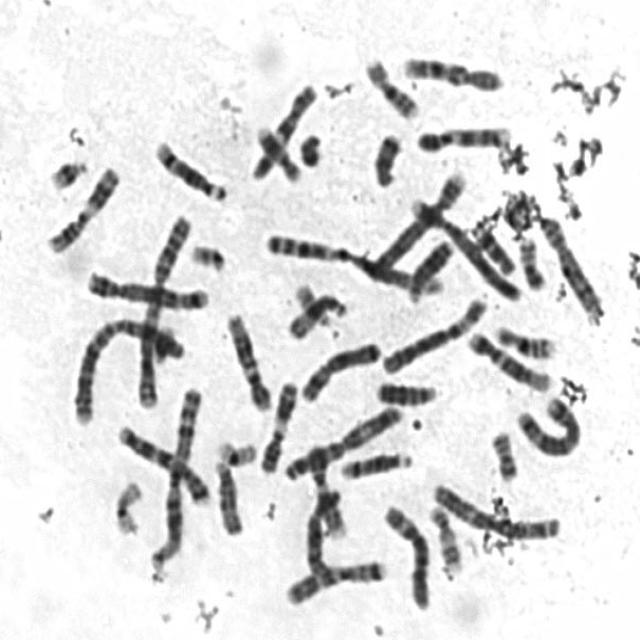A1: (257, 224, 452, 298), (143, 378, 205, 574)
A2: (65, 310, 187, 426), (131, 204, 195, 412)
A3: (278, 396, 407, 482), (424, 473, 564, 542)
B4: (402, 186, 524, 304), (363, 161, 470, 283)
B5: (80, 262, 210, 312), (510, 387, 585, 458)
C10: (244, 74, 322, 183), (396, 47, 506, 93)
C11: (40, 157, 124, 256), (254, 372, 300, 476)
C12: (462, 322, 556, 393), (220, 303, 275, 413)
C6: (376, 288, 492, 376), (378, 496, 434, 612)
C7: (112, 417, 213, 507), (278, 550, 391, 608)
C8: (533, 208, 608, 321), (298, 482, 346, 579)
C9: (302, 436, 349, 540), (412, 116, 516, 154)
D13: (402, 232, 458, 303), (370, 373, 442, 407)
D14: (147, 130, 229, 204), (334, 443, 416, 481)
D15: (280, 286, 350, 342), (207, 452, 246, 538)
E16: (359, 49, 423, 121), (488, 315, 560, 362)
E17: (250, 117, 304, 184), (423, 497, 466, 574)
E18: (468, 213, 520, 277), (367, 124, 405, 189)
F19: (107, 472, 146, 537), (211, 431, 260, 468)
F20: (513, 229, 550, 293), (484, 422, 522, 484)
G21: (42, 149, 92, 192), (149, 318, 180, 364)
G22: (289, 276, 334, 328), (184, 236, 229, 274)
X: (294, 333, 384, 404), (298, 482, 346, 579)
Y: (294, 124, 326, 168)
